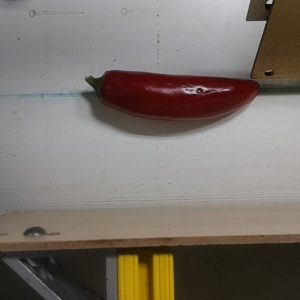Cut Point: (89, 68, 121, 105)
